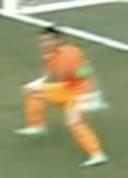goalkeeper: (13, 10, 124, 177)
